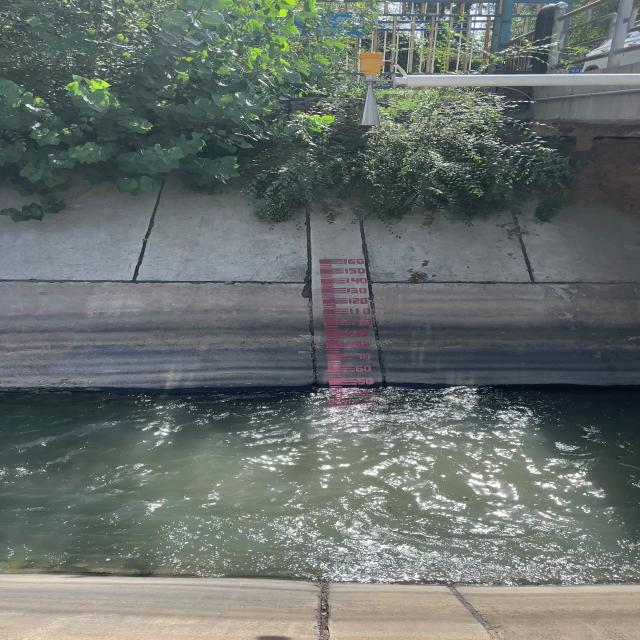ruler: (313, 254, 380, 391)
value: (349, 318, 376, 328), (342, 257, 368, 266), (345, 286, 369, 295), (350, 340, 371, 350), (346, 297, 372, 305), (353, 363, 373, 373), (355, 376, 375, 386), (348, 307, 373, 315), (343, 267, 367, 275), (352, 352, 372, 361), (345, 277, 370, 284), (351, 329, 370, 337)
